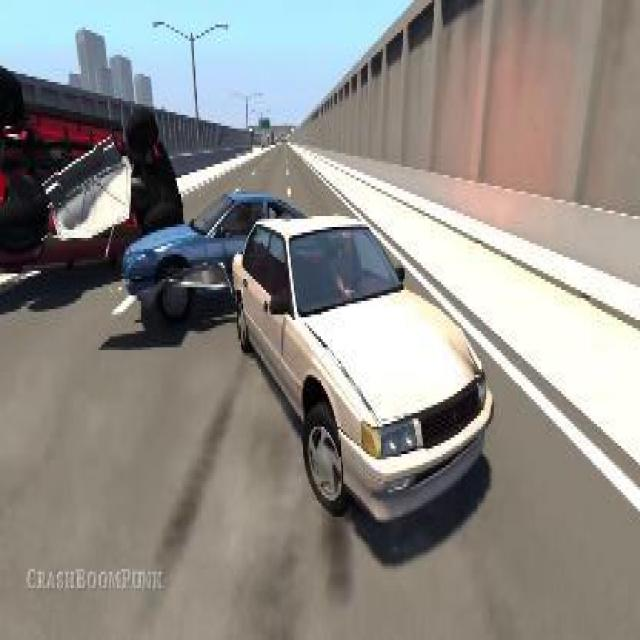accident: (116, 181, 499, 525), (0, 74, 186, 287)
